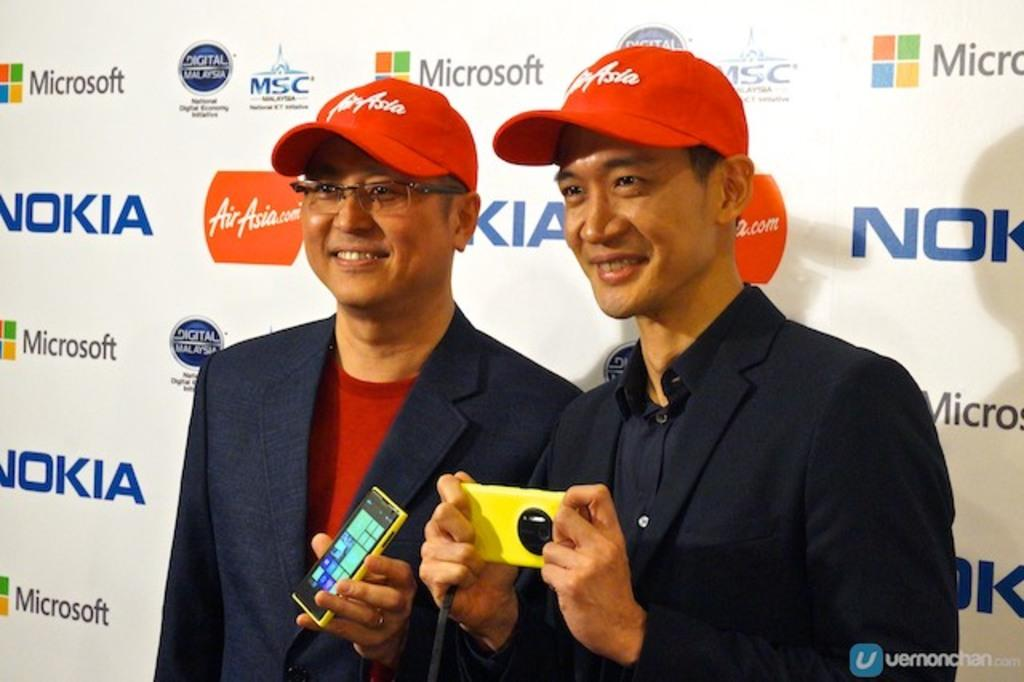Hat: (492, 46, 748, 166), (272, 72, 478, 194)
